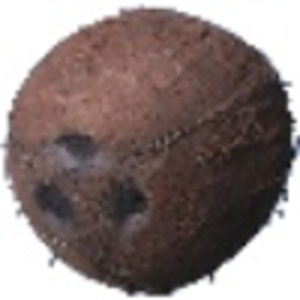coco: (1, 7, 300, 296)
